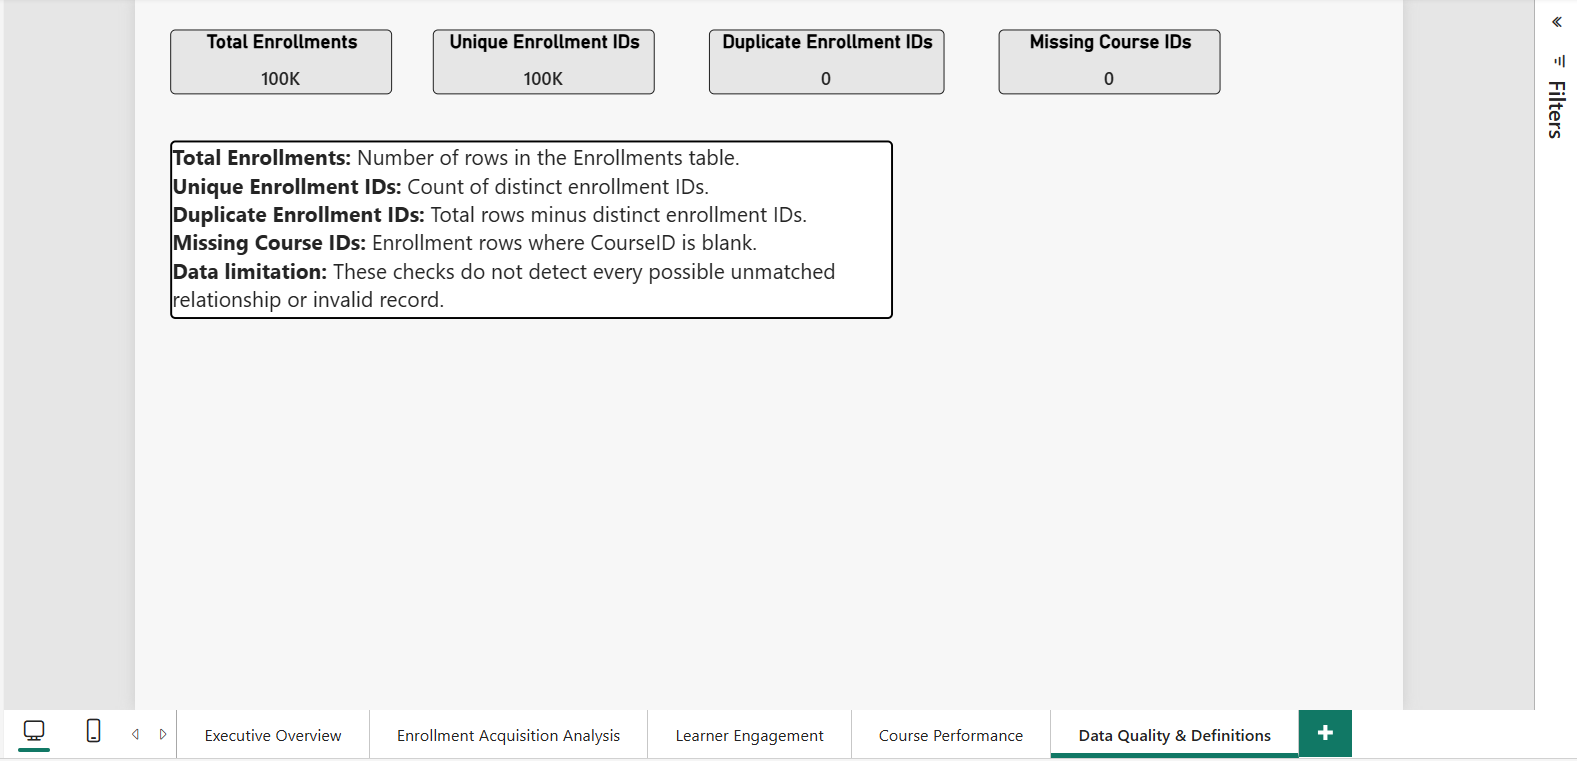

Layout of this report page (visuals, bound fields, positions):
{"tool":"powerbi","page":{"name":"Data Quality & Definitions","canvas":[1920,1080],"ordinal":4},"visuals":[{"type":"cardVisual","title":"Total Enrollments","fields":{"Data":["Enrollments.Total Enrollments"]},"box":[53.3,49.2,336.3,98.4],"z":0},{"type":"cardVisual","title":"Unique Enrollment IDs","fields":{"Data":["Enrollments.Unique Enrollment IDs"]},"box":[451.1,49.2,336.3,98.4],"z":1},{"type":"cardVisual","title":"Duplicate Enrollment IDs","fields":{"Data":["Enrollments.Duplicate Enrollment IDs"]},"box":[869.3,49.2,356.8,98.4],"z":2},{"type":"cardVisual","title":"Missing Course IDs","fields":{"Data":["Enrollments.Missing Course IDs"]},"box":[1308.1,49.2,336.3,98.4],"z":3},{"type":"textbox","box":[53.3,217.3,1094.9,270.6],"z":4}]}

Visuals, with their boxes on the page's 1920x1080 design canvas (x1, y1, x2, y2). These are canvas units, not pixel positions in the 1577x761 screenshot, which may show the page scaled, cropped or inside an application window:
"Total Enrollments" cardVisual: box(53, 49, 390, 148)
"Unique Enrollment IDs" cardVisual: box(451, 49, 787, 148)
"Duplicate Enrollment IDs" cardVisual: box(869, 49, 1226, 148)
"Missing Course IDs" cardVisual: box(1308, 49, 1644, 148)
textbox: box(53, 217, 1148, 488)
